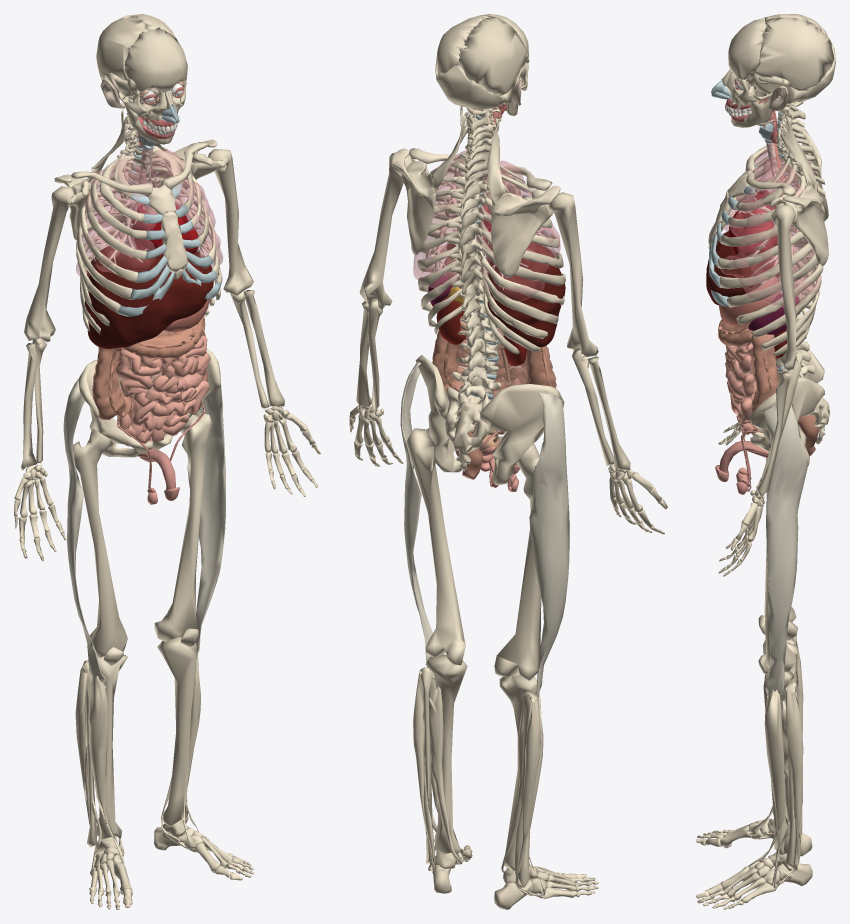
Rendered from m-organs.glb.
3 renders of one model, left to right at view 1: azimuth 30°, elevation 25°; view 2: azimuth 150°, elevation 25°; view 3: azimuth 270°, elevation 25°, orthographic. The views are drawn at different scales.
Parts seen in each view (by area): view 1: bone, organ, glass, heart; view 2: bone, organ, glass; view 3: bone, organ, glass, heart.
Part boxes in pixels (box(x1,y1,x2,y2)): bone: box(14, 14, 320, 909); organ: box(85, 79, 213, 504); glass: box(76, 149, 223, 424); heart: box(131, 204, 198, 256); bone: box(349, 14, 667, 909); organ: box(422, 79, 565, 491); glass: box(413, 150, 560, 398); bone: box(696, 14, 835, 909); organ: box(706, 76, 819, 494); glass: box(720, 149, 820, 423); heart: box(728, 190, 777, 258).
Size of the model in its own units: 0.6471 by 1.71 by 0.2538.
